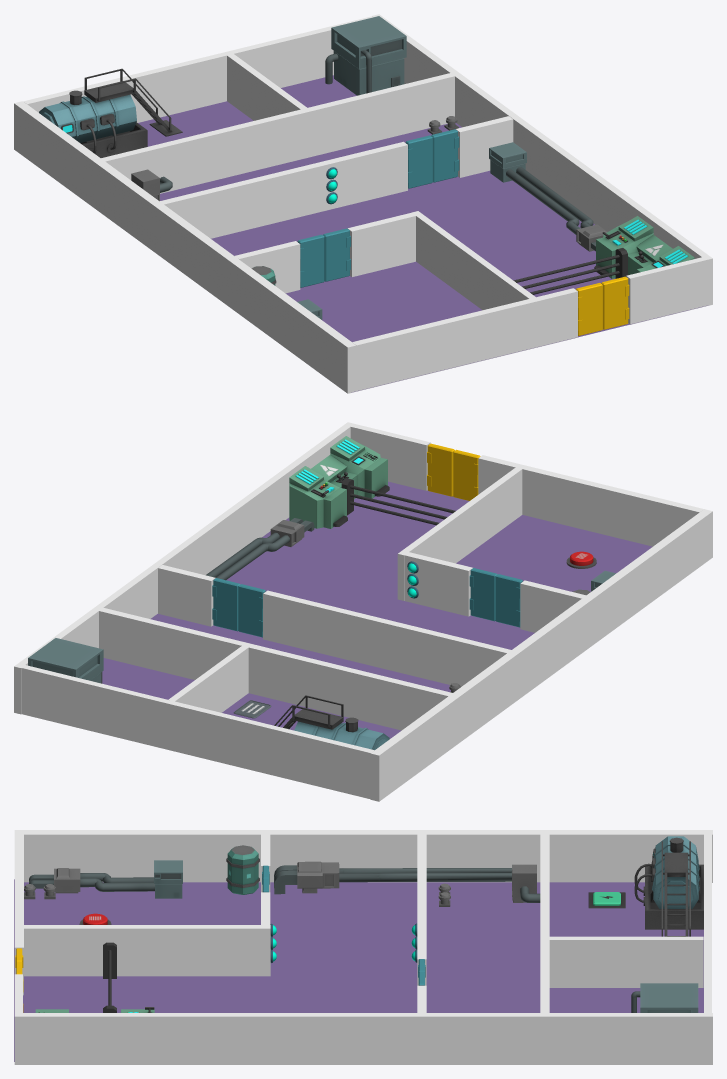
The model's file is maps_48.fbx.
3 renders of one model, top to bottom at view 1: azimuth 30°, elevation 25°; view 2: azimuth 150°, elevation 25°; view 3: azimuth 270°, elevation 25°, orthographic. The views are drawn at different scales.
Parts seen in each view (by area): view 1: wall_01_08_geo, wall_01_07_geo, wall_01_03_geo7, wall_01_05_geo, wall_01_03_geo10, wall_01_06_geo, wall_01_09_geo, tankwater_geo, generatorStation_05_geo, wall_01_11_geo3, wall_01_10_geo, wall_01_03_geo9 (+10 smaller); view 2: wall_01_08_geo, wall_01_07_geo, wall_01_09_geo, wall_01_03_geo7, wall_01_03_geo10, wall_01_06_geo, wall_01_05_geo, table_01_geo, wall_01_11_geo3, wall_01_03_geo9, wall_01_11_geo2, wall_01_10_geo (+9 smaller); view 3: wall_01_08_geo, wall_01_06_geo, wall_01_07_geo, wall_01_11_geo3, wall_01_11_geo2, tankwater_geo, generatorStation_03_geo, generatorStation_04_geo, generatorStation_05_geo, wall_01_03_geo7, tank_01_geo, wall_01_09_geo (+5 smaller).
Part boxes in pixels (x1,y1,x2,y2): wall_01_08_geo: (138, 75, 708, 392); wall_01_07_geo: (14, 101, 356, 393); wall_01_03_geo7: (101, 73, 454, 193); wall_01_05_geo: (352, 288, 577, 391); wall_01_03_geo10: (160, 141, 407, 238); wall_01_06_geo: (372, 14, 712, 306); wall_01_09_geo: (23, 16, 373, 122); tankwater_geo: (39, 68, 182, 157); generatorStation_05_geo: (325, 16, 406, 95); wall_01_11_geo3: (412, 211, 535, 310); wall_01_10_geo: (626, 257, 705, 324); wall_01_03_geo9: (347, 212, 415, 276); wall_01_08_geo: (102, 481, 652, 738); wall_01_07_geo: (370, 509, 712, 801); wall_01_09_geo: (21, 665, 374, 798); wall_01_03_geo7: (99, 608, 452, 730); wall_01_03_geo10: (263, 590, 511, 686); wall_01_06_geo: (14, 422, 354, 714); wall_01_05_geo: (478, 455, 703, 546); table_01_geo: (289, 436, 389, 528); wall_01_11_geo3: (397, 467, 522, 600); wall_01_03_geo9: (404, 552, 472, 616); wall_01_11_geo2: (168, 646, 248, 712); wall_01_10_geo: (350, 424, 430, 490); wall_01_08_geo: (14, 879, 703, 1061); wall_01_06_geo: (14, 1013, 712, 1064); wall_01_07_geo: (14, 830, 712, 882); wall_01_11_geo3: (24, 925, 270, 976); wall_01_11_geo2: (549, 936, 703, 987); tankwater_geo: (634, 836, 703, 936); generatorStation_03_geo: (274, 861, 540, 902); generatorStation_04_geo: (29, 860, 182, 898); generatorStation_05_geo: (631, 983, 698, 1012); wall_01_03_geo7: (540, 834, 549, 1012); tank_01_geo: (226, 845, 259, 894); wall_01_09_geo: (704, 834, 711, 1012).
Size of the model in its own units: 73.34 by 12.81 by 116.
Materials: 11 (11 with a texture image).
